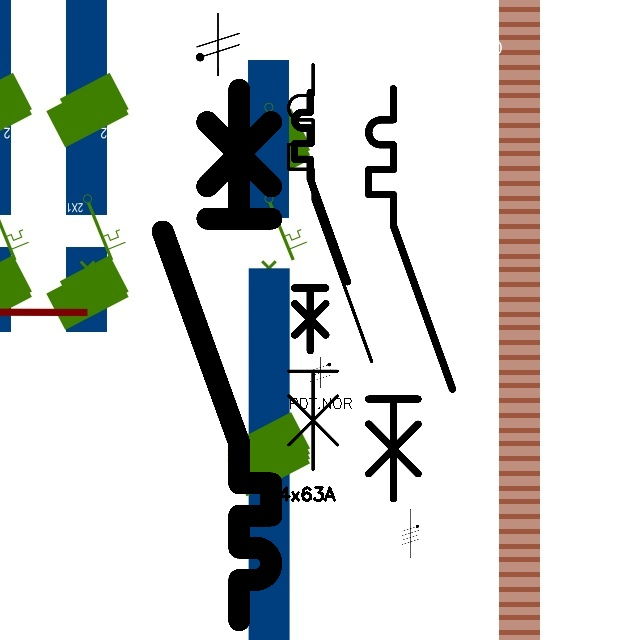interruptor_termomagnetico: (149, 76, 285, 634), (358, 78, 463, 509), (278, 54, 382, 480), (288, 86, 354, 358)
